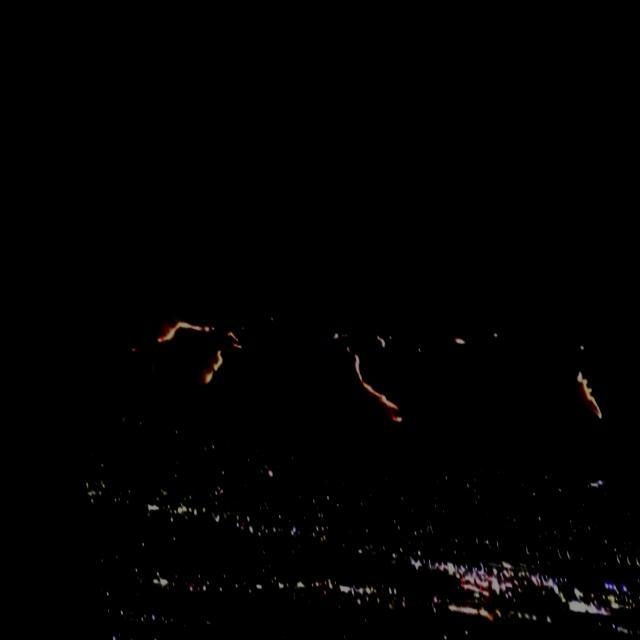Fire: (341, 340, 392, 410), (140, 304, 207, 346), (566, 347, 592, 399), (187, 337, 215, 384), (214, 320, 234, 346), (444, 317, 459, 332)
